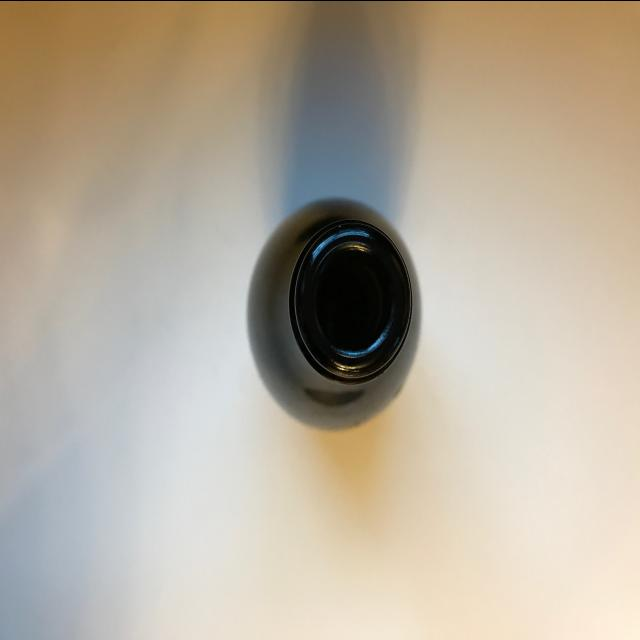glass: (245, 184, 427, 438)
